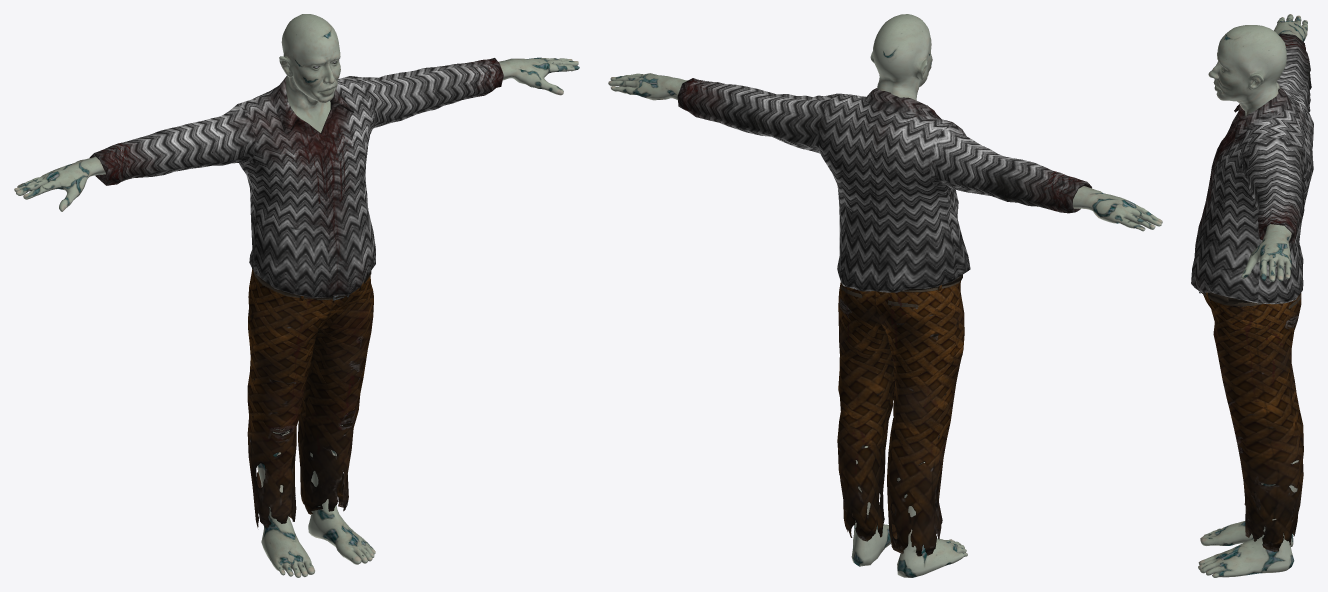
The model's file is zombie.obj.
3 renders of one model, left to right at view 1: azimuth 30°, elevation 25°; view 2: azimuth 150°, elevation 25°; view 3: azimuth 270°, elevation 25°, orthographic.
Parts seen in each view (by area): view 1: Tops, Bottoms, Body; view 2: Tops, Bottoms, Body; view 3: Tops, Bottoms, Body.
Boxes of the visible parts, x1=… form: Tops: x1=89, y1=58, x2=503, y2=297; Bottoms: x1=247, y1=268, x2=373, y2=528; Body: x1=14, y1=14, x2=579, y2=577; Tops: x1=677, y1=78, x2=1091, y2=292; Bottoms: x1=837, y1=275, x2=964, y2=556; Body: x1=608, y1=14, x2=1162, y2=577; Tops: x1=1191, y1=33, x2=1313, y2=304; Bottoms: x1=1199, y1=291, x2=1303, y2=551; Body: x1=1198, y1=14, x2=1307, y2=577.
Bounding box in the file's own units: 193 × 179 × 37.47.
Materials: 3 (3 with a texture image).
